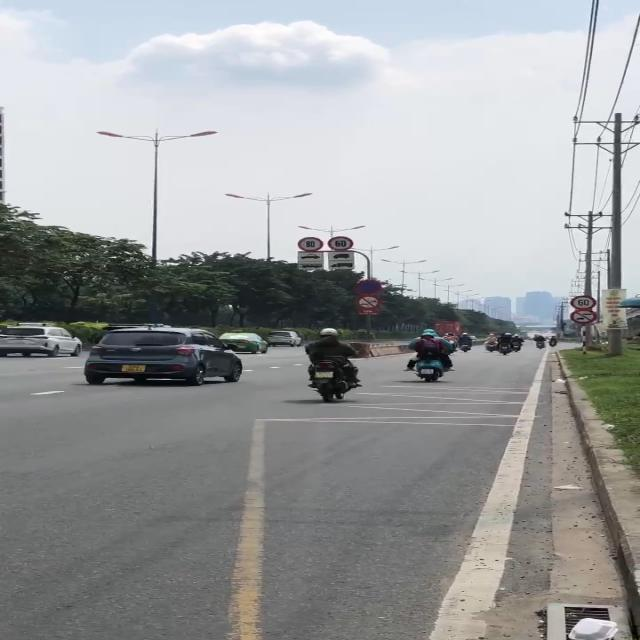Bien bao toc do toi da cho phep: (570, 294, 603, 310), (325, 234, 355, 250), (297, 236, 322, 252)
